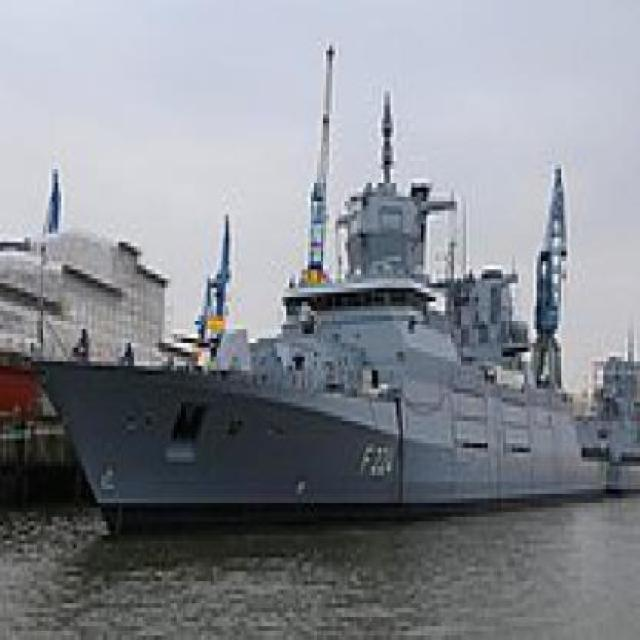warship2: (43, 84, 617, 564)
